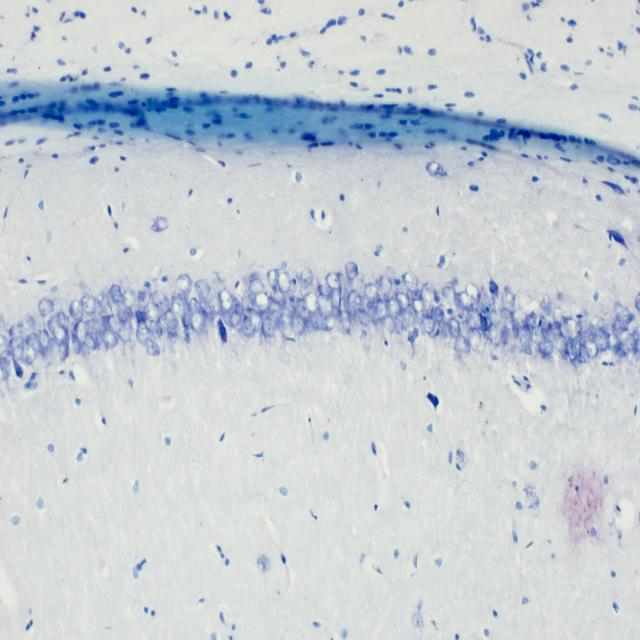neuron: (47, 316, 69, 345), (189, 298, 205, 334), (246, 308, 263, 334), (317, 294, 334, 317), (69, 298, 85, 322), (346, 288, 362, 312), (101, 328, 119, 349), (104, 313, 125, 331), (593, 329, 610, 351), (297, 266, 313, 289), (467, 326, 481, 352), (10, 340, 25, 364), (218, 288, 233, 312), (401, 272, 419, 292), (25, 332, 42, 353), (122, 284, 136, 309), (277, 270, 291, 295), (278, 312, 292, 337), (164, 307, 179, 330), (152, 289, 170, 308), (80, 294, 97, 314), (176, 274, 193, 294), (194, 278, 211, 298), (303, 291, 319, 312), (616, 305, 632, 326), (353, 308, 371, 326), (254, 292, 271, 311), (171, 297, 185, 320), (261, 316, 275, 339), (280, 296, 296, 316), (512, 308, 528, 328), (74, 320, 89, 341), (584, 338, 599, 359), (242, 314, 255, 338), (292, 312, 305, 336), (379, 275, 392, 299), (22, 344, 37, 364), (146, 301, 160, 322), (268, 301, 282, 322), (296, 298, 310, 319), (387, 297, 401, 318), (502, 290, 516, 311), (588, 316, 605, 333), (326, 272, 342, 290), (230, 310, 243, 332), (377, 298, 388, 324), (39, 297, 54, 316), (208, 294, 223, 313), (465, 282, 480, 301), (149, 321, 163, 341), (367, 301, 378, 326), (365, 283, 378, 304), (455, 335, 470, 353), (136, 326, 150, 345), (305, 314, 319, 333), (267, 269, 279, 291), (138, 288, 151, 308), (249, 278, 265, 294), (146, 339, 161, 356), (38, 328, 50, 349), (346, 262, 360, 280), (396, 291, 410, 309), (448, 317, 460, 338), (459, 292, 473, 310), (608, 332, 620, 353), (59, 336, 69, 361), (70, 332, 81, 354), (320, 316, 335, 332), (538, 340, 554, 355), (442, 286, 457, 302), (118, 325, 132, 342), (384, 315, 396, 334), (10, 324, 26, 338), (318, 284, 334, 298), (412, 298, 425, 315), (616, 325, 629, 342), (110, 284, 122, 302), (242, 292, 254, 310), (423, 318, 436, 334), (85, 332, 96, 350), (209, 310, 220, 328), (96, 294, 106, 312), (528, 310, 537, 329), (626, 333, 635, 350), (129, 312, 137, 331), (182, 311, 190, 329), (395, 318, 404, 334), (80, 342, 90, 356), (490, 308, 498, 325)
